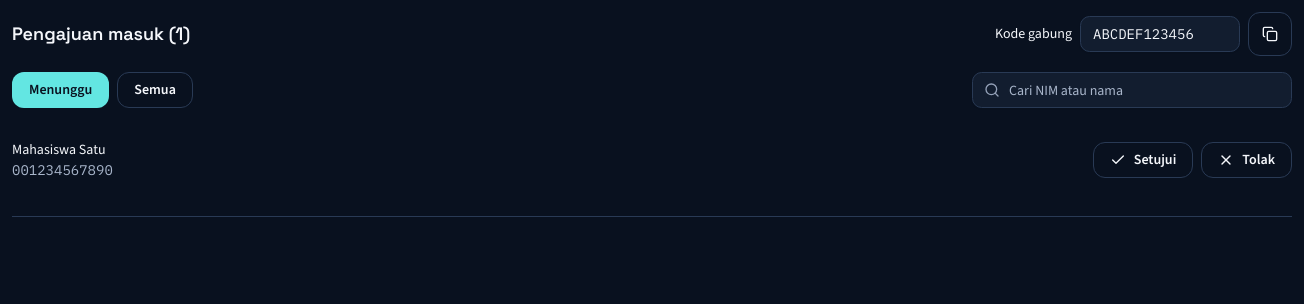
Test case: kotak pengajuan dosen › meminta alasan sebelum penolakan bisa dikirim
Click the button "Tolak" at (1247, 160), box [1201, 142, 1292, 178]
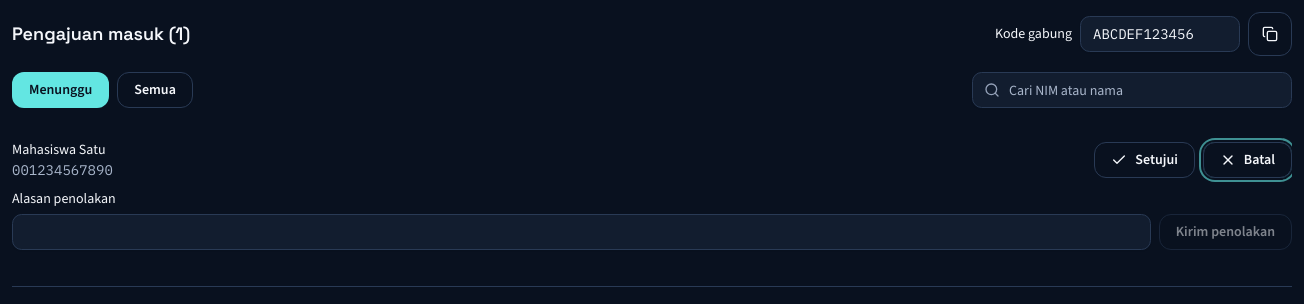
Now the button "Kirim penolakan" is disabled, box [1159, 214, 1292, 250]
Type "NIM belum cocok dengan daftar kelas." into the field labelled "Alasan penolakan" at (581, 232), box [12, 214, 1151, 250]
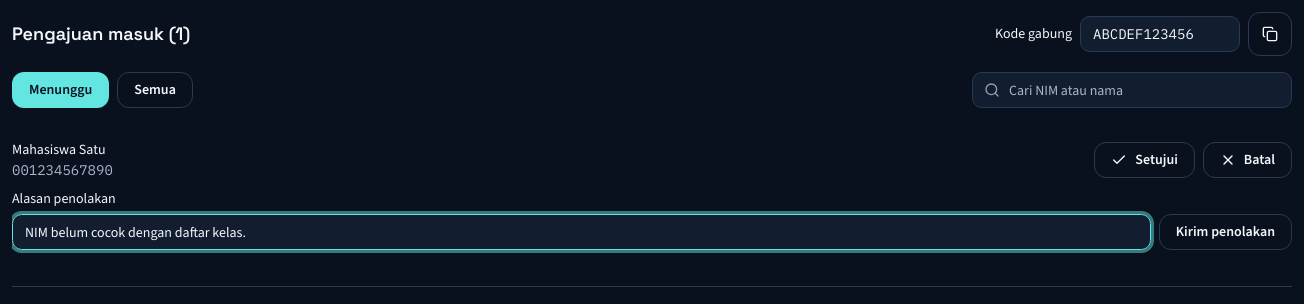
Now the button "Kirim penolakan" is enabled, box [1159, 214, 1292, 250]
